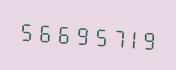five: (17, 15, 33, 46), (85, 19, 101, 50)
nine: (68, 18, 84, 49), (136, 23, 152, 54)
one: (119, 22, 135, 53)
seven: (102, 21, 118, 52)
six: (34, 16, 50, 47), (51, 17, 67, 48)
